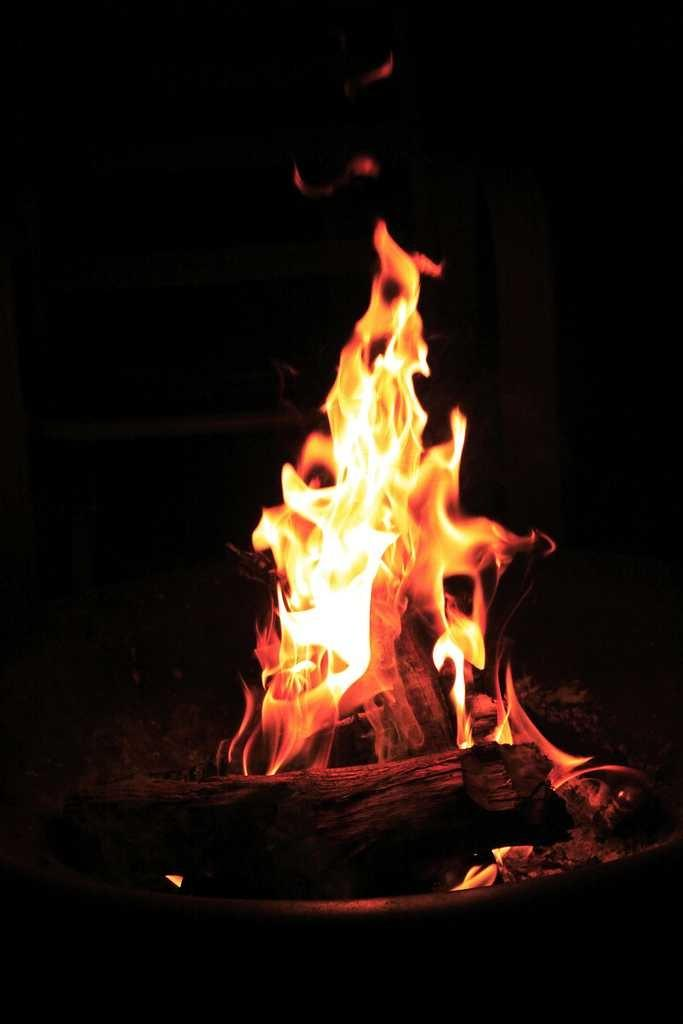fire: (300, 507, 430, 668), (342, 370, 418, 498)
